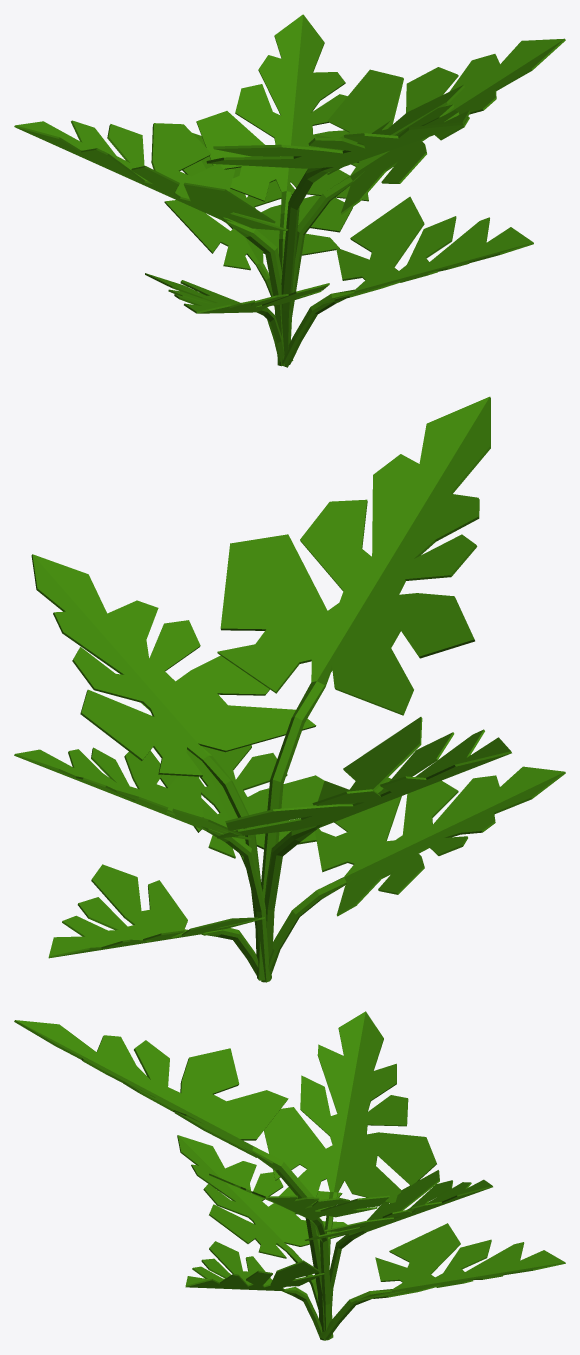
Rendered from Plant_c_02.fbx.
3 renders of one model, top to bottom at view 1: azimuth 30°, elevation 25°; view 2: azimuth 150°, elevation 25°; view 3: azimuth 270°, elevation 25°, orthographic. The views are drawn at different scales.
Parts seen in each view (by area): view 1: Plant_d_02_LOD0; view 2: Plant_d_02_LOD0; view 3: Plant_d_02_LOD0.
Boxes of the visible parts, x1,y1,x2,y2 form: Plant_d_02_LOD0: [14, 14, 565, 367]; Plant_d_02_LOD0: [14, 396, 565, 982]; Plant_d_02_LOD0: [14, 1011, 565, 1340].
Bounding box in the file's own units: 11.32 × 13.48 × 8.49.
